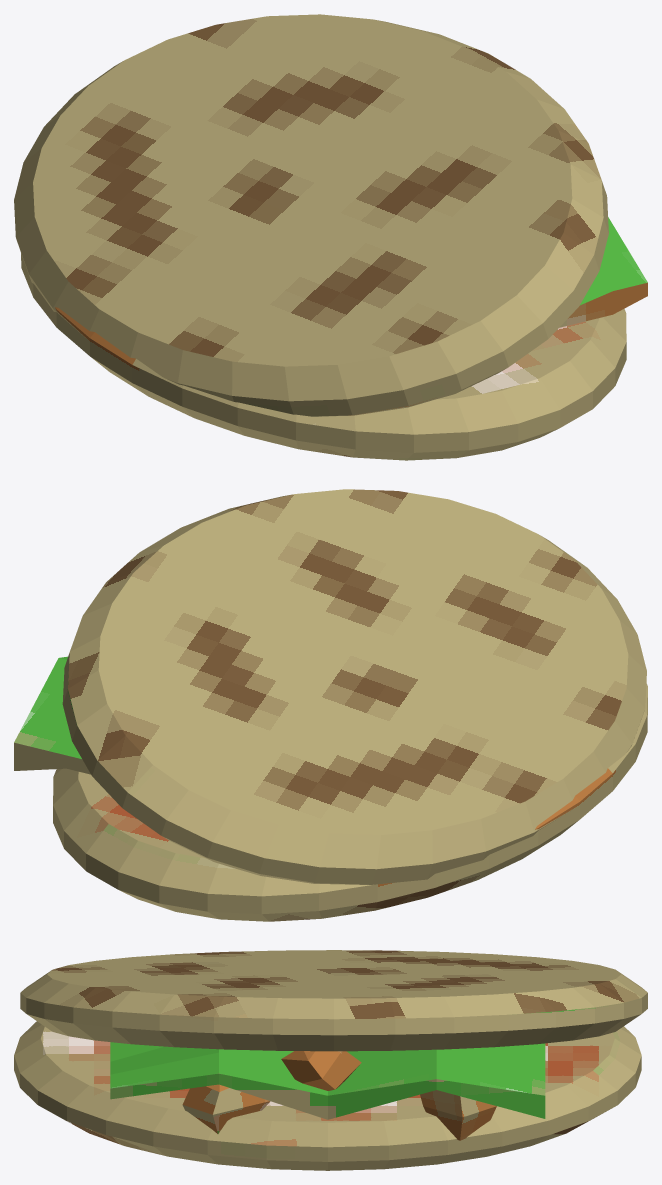
File: kebab.glb
3 renders of one model, top to bottom at view 1: azimuth 30°, elevation 25°; view 2: azimuth 150°, elevation 25°; view 3: azimuth 270°, elevation 25°, orthographic. The views are drawn at different scales.
Visible parts, largest first — view 1: Circle; view 2: Circle; view 3: Circle.
Part boxes in pixels (x1,y1,x2,y2): Circle: (14,14,647,460); Circle: (14,489,647,921); Circle: (14,950,647,1170).
Size of the model in its own units: 2.64 by 1.08 by 3.85.
Materials: 1 (1 with a texture image).
